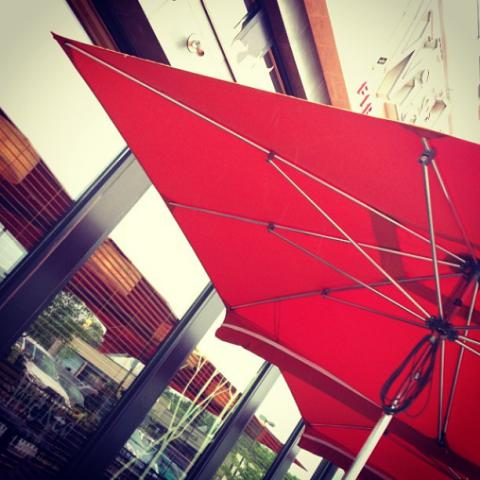car: (12, 334, 70, 408)
